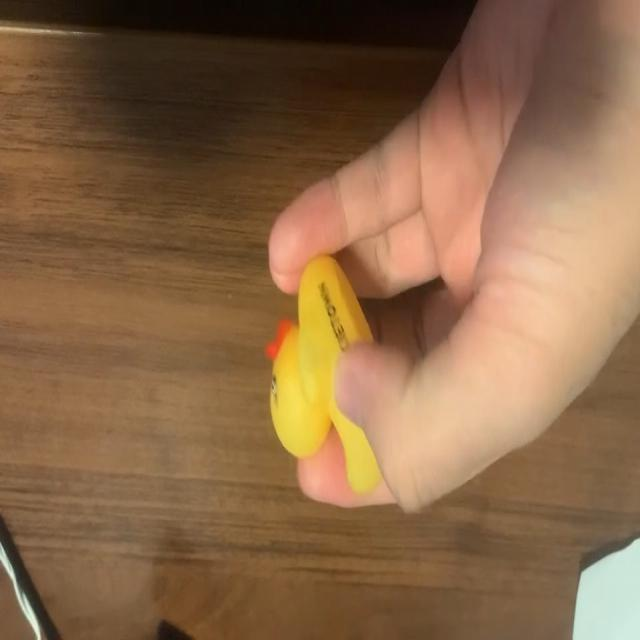rubber-duck: (266, 255, 381, 499)
